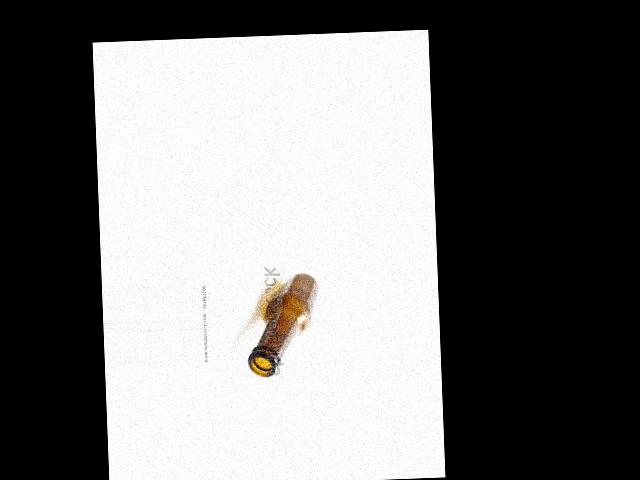beer: (244, 272, 321, 378)
